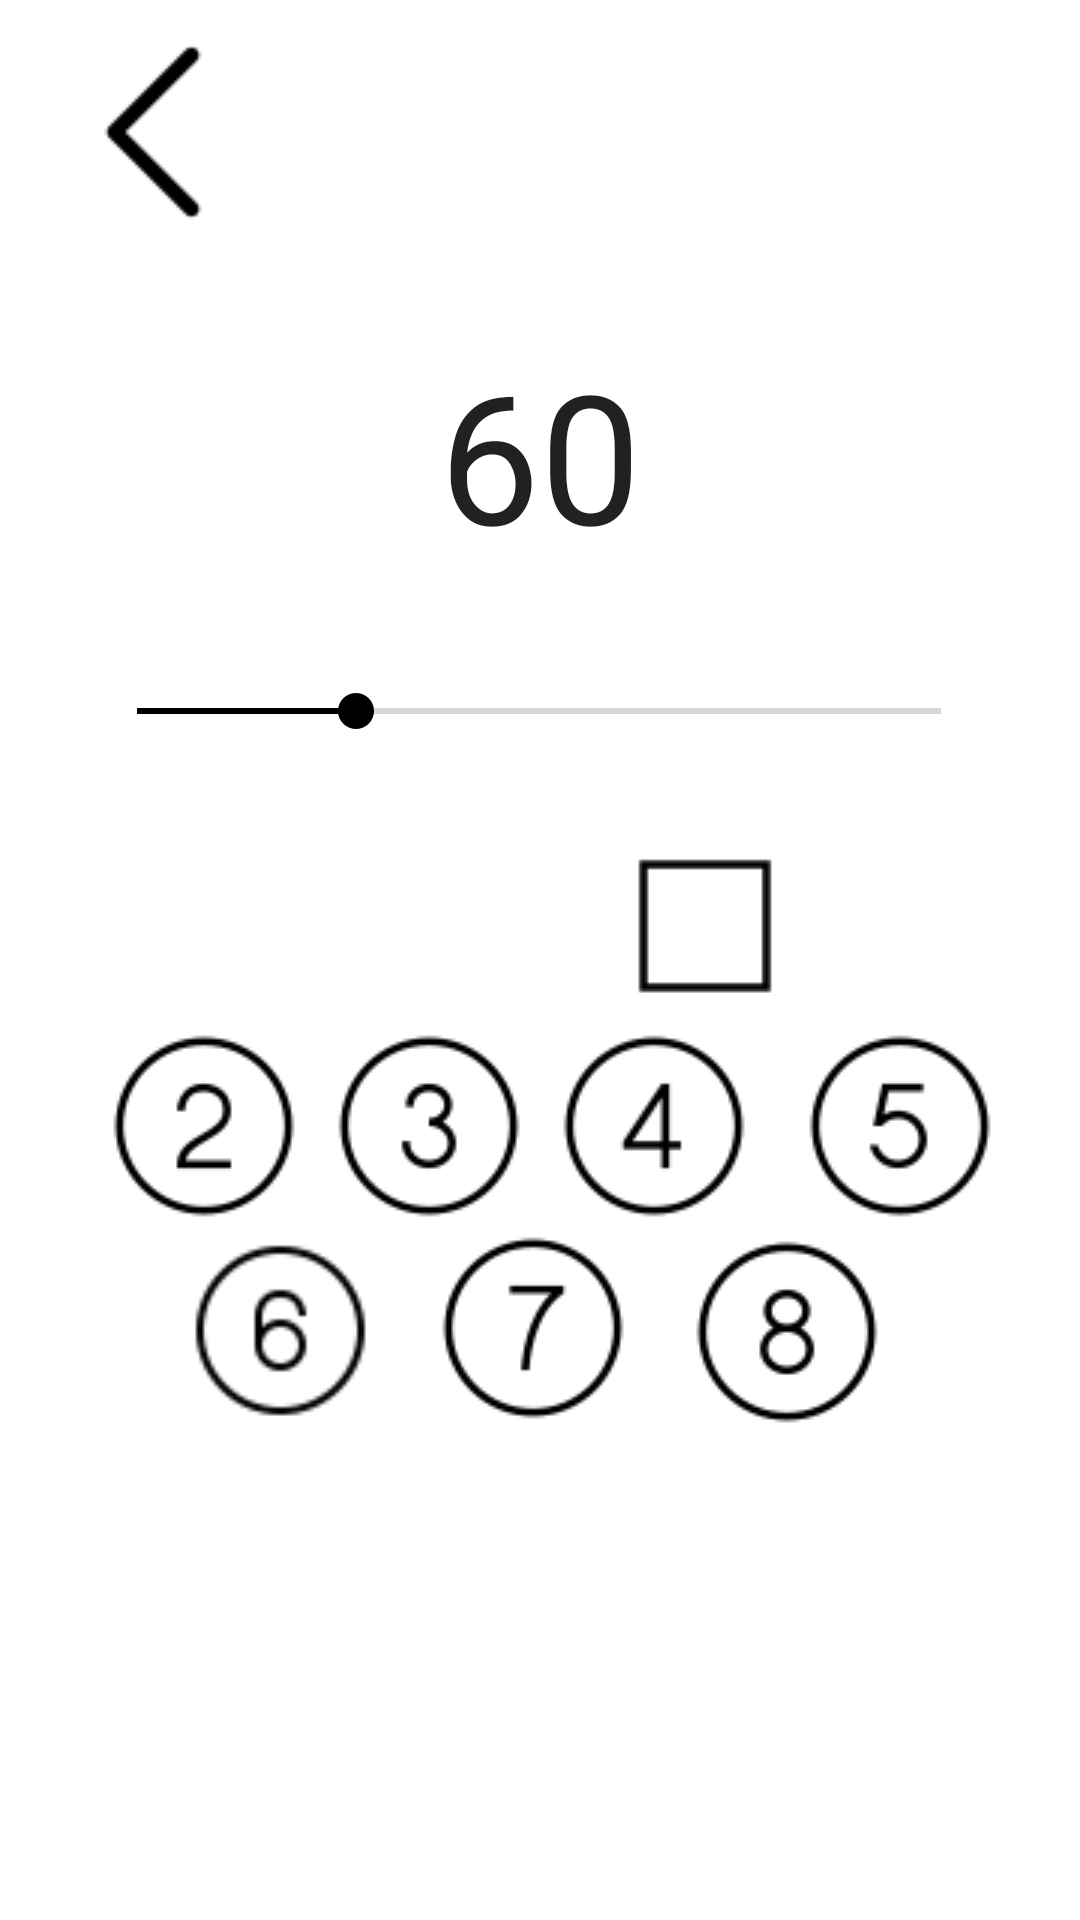

Locate icon controls on the screen. Image size 1080px x 1920px, boxes as (x1, y1, x2, y2).
back: (105, 46, 202, 219)
stop: (638, 859, 772, 993)
